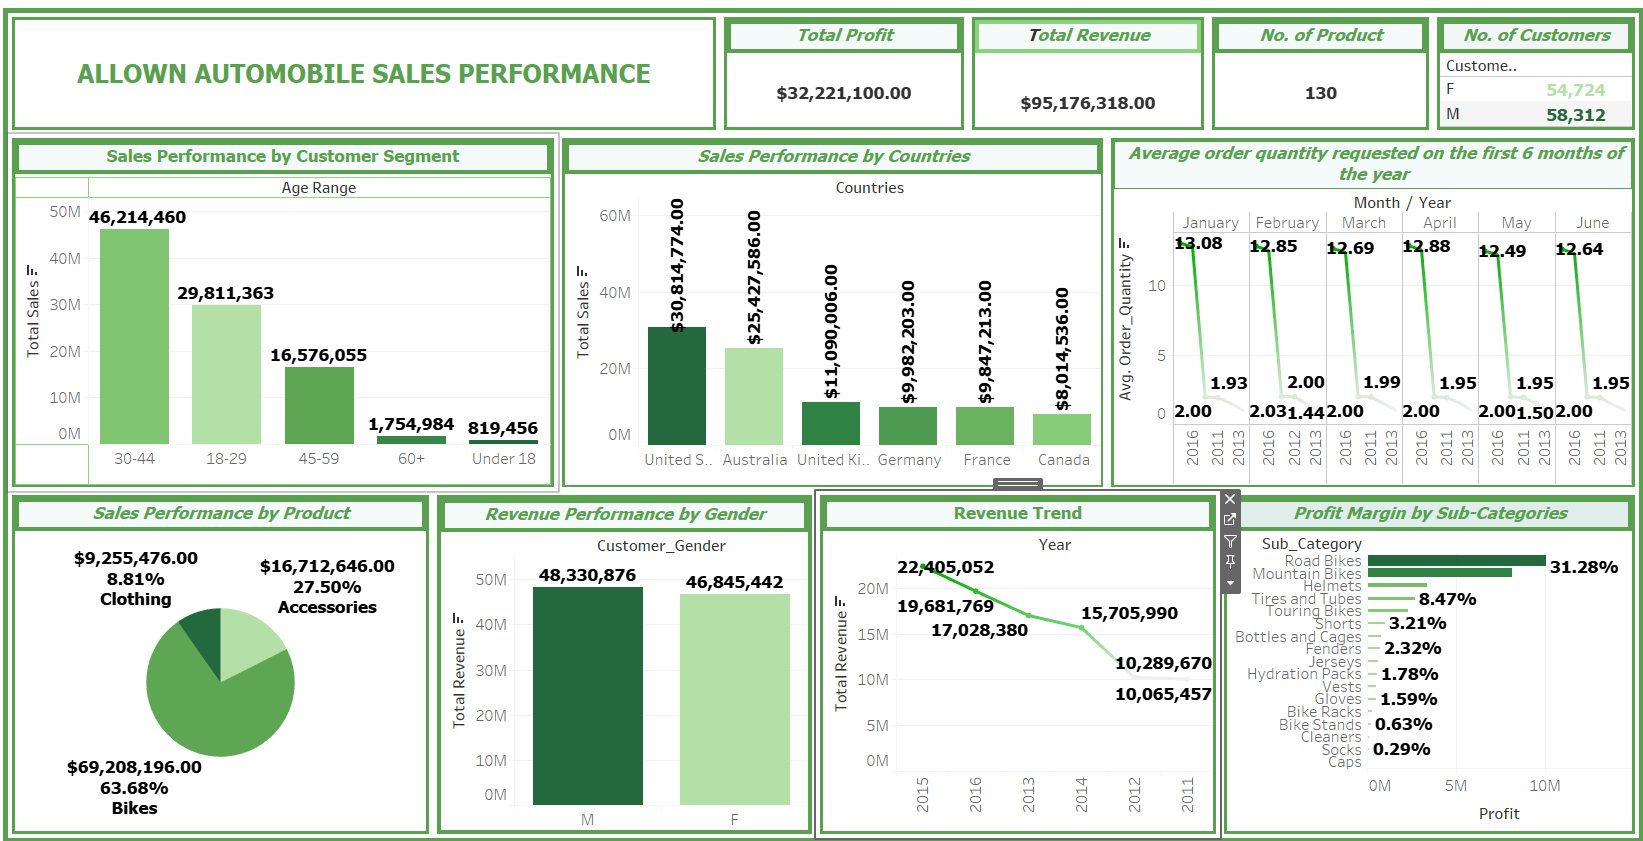

The page's visual inventory and layout, read from the dashboard file:
{"tool":"tableau","page":{"name":"Dashboard 1","canvas":[1000,1000],"units":"permille","ordinal":0},"visuals":[{"type":"text","box":[7.9,15.3,429.7,141.6]},{"type":"worksheet","title":"Total Profit","mark":"Automatic","box":[437.5,15.3,149.7,141.6]},{"type":"worksheet","title":"Total Rev.","mark":"Automatic","box":[587.2,15.3,144.8,141.6]},{"type":"worksheet","title":"No.of Product","mark":"Automatic","box":[732.1,15.3,135.8,141.6]},{"type":"worksheet","title":"No. of  cust","mark":"Automatic","rows":["Customer_Gender"],"box":[867.8,15.3,124.3,141.6]},{"type":"worksheet","title":"perf. by Age","mark":"Automatic","rows":["Calculation_524950843568689152"],"cols":["Calculation_524950843580588034"],"box":[7.9,156.9,331.6,420.3]},{"type":"worksheet","title":"Perf. countries","mark":"Automatic","rows":["Calculation_524950843568689152"],"cols":["Calculation_524950843574763521"],"box":[339.5,156.9,331.7,420.3]},{"type":"worksheet","title":"Ave. order","mark":"Line","rows":["Order_Quantity"],"cols":["Month","Year"],"box":[671.2,156.9,321,420.3]},{"type":"worksheet","title":"Sales Perf. by Product","mark":"Pie","box":[7.9,577.2,256.5,407.5]},{"type":"worksheet","title":"Rev. perf. by gender","mark":"Automatic","rows":["Calculation_902408787654680576"],"cols":["Customer_Gender"],"box":[264.3,577.2,231.2,407.5]},{"type":"worksheet","title":"Rev. Trend","mark":"Line","rows":["Calculation_902408787654680576"],"cols":["Year"],"box":[495.5,577.2,243.8,407.5]},{"type":"worksheet","title":"ProfitMargin","mark":"Automatic","rows":["Sub_Category"],"cols":["Profit"],"box":[739.3,577.2,252.9,407.5]}]}

Visuals, with their boxes on the dashboard's canvas, which has no fixed pixel size, in thousandths of its width and height (x1, y1, x2, y2). These are canvas units, not pixel positions in the 1643x841 screenshot, which may show the page scaled, cropped or inside an application window:
text: (x1=8, y1=15, x2=438, y2=157)
"Total Profit" worksheet: (x1=438, y1=15, x2=587, y2=157)
"Total Rev." worksheet: (x1=587, y1=15, x2=732, y2=157)
"No.of Product" worksheet: (x1=732, y1=15, x2=868, y2=157)
"No. of  cust" worksheet: (x1=868, y1=15, x2=992, y2=157)
"perf. by Age" worksheet: (x1=8, y1=157, x2=340, y2=577)
"Perf. countries" worksheet: (x1=340, y1=157, x2=671, y2=577)
"Ave. order" worksheet (Line marks): (x1=671, y1=157, x2=992, y2=577)
"Sales Perf. by Product" worksheet (Pie marks): (x1=8, y1=577, x2=264, y2=985)
"Rev. perf. by gender" worksheet: (x1=264, y1=577, x2=496, y2=985)
"Rev. Trend" worksheet (Line marks): (x1=496, y1=577, x2=739, y2=985)
"ProfitMargin" worksheet: (x1=739, y1=577, x2=992, y2=985)
